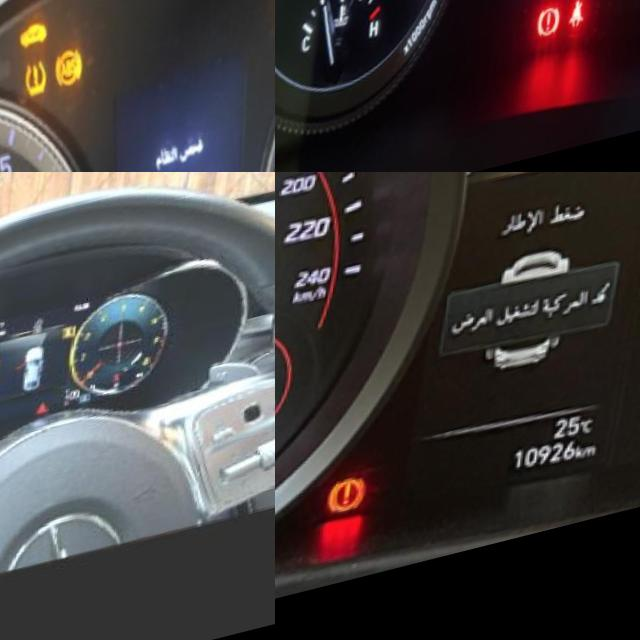Engine cooling system: (113, 397, 121, 408)
Seat Belt: (576, 12, 596, 49)
security: (14, 20, 58, 67)
